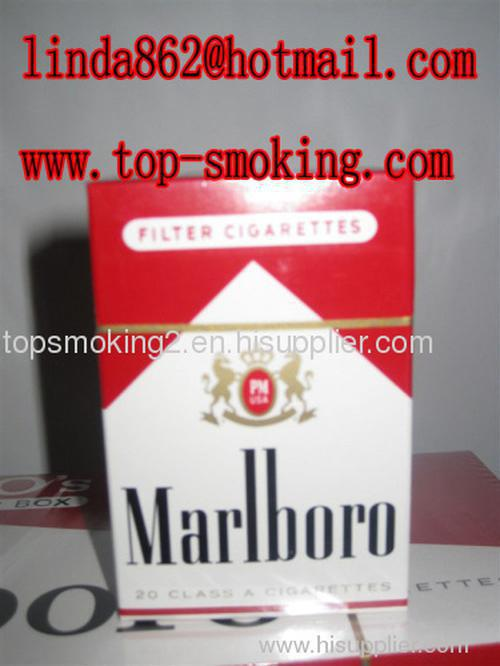marlboro: (104, 179, 407, 613)
